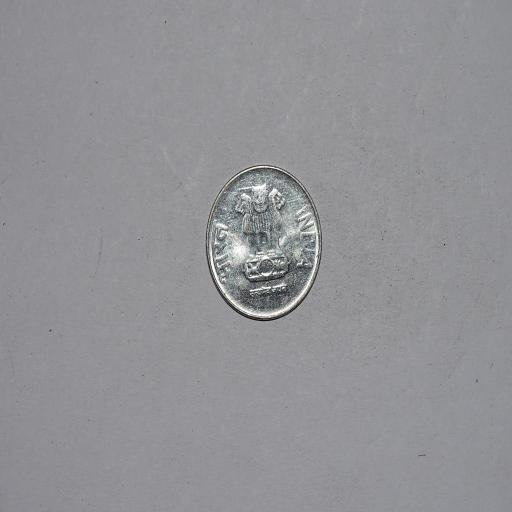rupee2: (199, 163, 323, 324)
